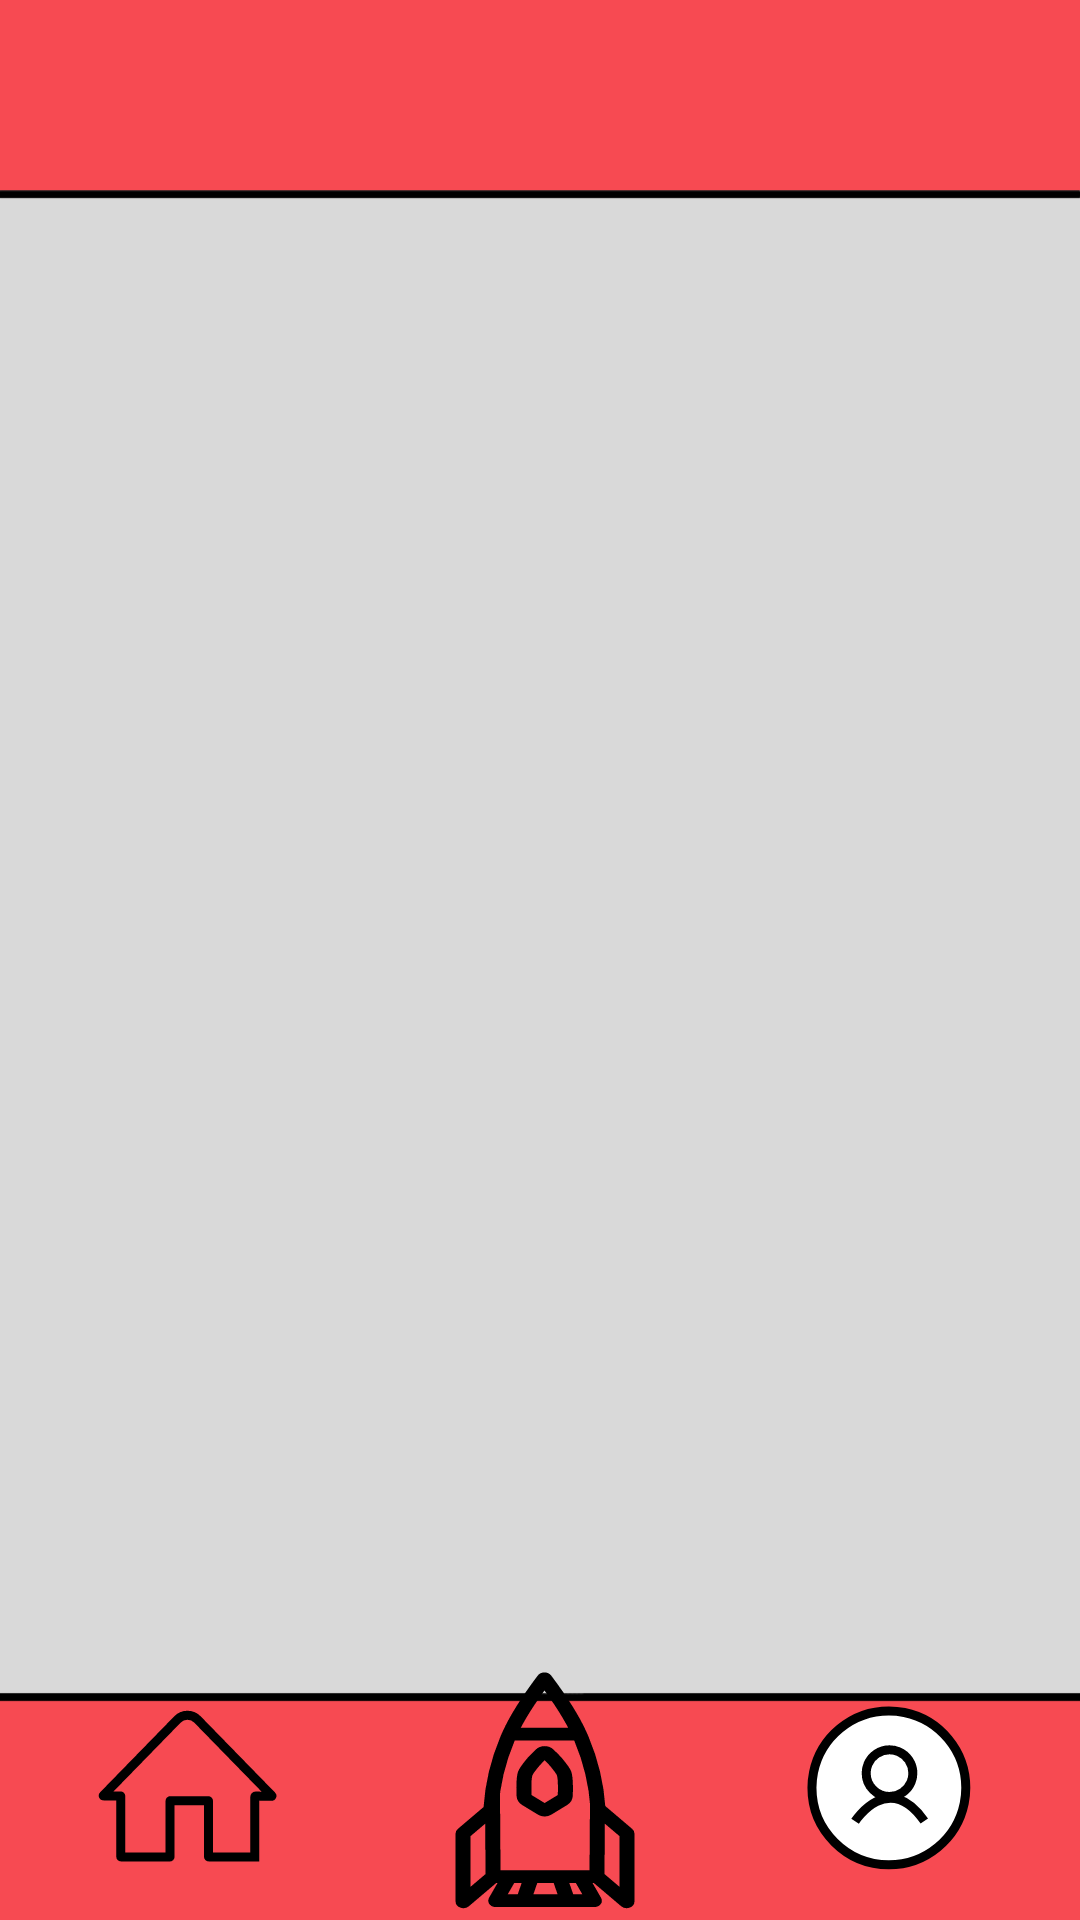

Icon click points for this 1080w x 1920h phone screenshot, format (x=x, y=y):
home icon: (x=187, y=1786)
Profile Icon: (x=889, y=1788)
Rocket icon: (x=540, y=1792)
